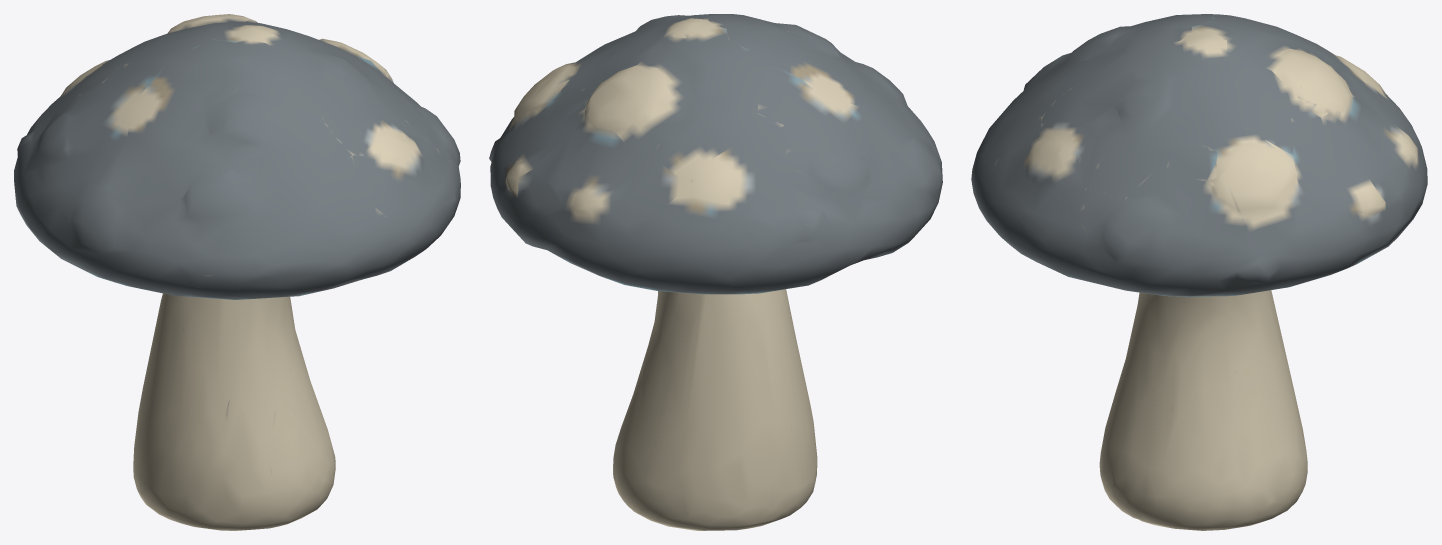
Rendered from tree-shroom.glb.
The picture shows the model from 3 angles, left to right: view 1: azimuth 30°, elevation 25°; view 2: azimuth 150°, elevation 25°; view 3: azimuth 270°, elevation 25°; orthographic projection.
Visible parts, largest first — view 1: tripo_node_6e2ce97d-7f21-44b1-b405-b1fa67bae46a; view 2: tripo_node_6e2ce97d-7f21-44b1-b405-b1fa67bae46a; view 3: tripo_node_6e2ce97d-7f21-44b1-b405-b1fa67bae46a.
Part boxes in pixels (x1=…): tripo_node_6e2ce97d-7f21-44b1-b405-b1fa67bae46a: x1=14, y1=14, x2=460, y2=530; tripo_node_6e2ce97d-7f21-44b1-b405-b1fa67bae46a: x1=489, y1=14, x2=942, y2=530; tripo_node_6e2ce97d-7f21-44b1-b405-b1fa67bae46a: x1=971, y1=14, x2=1427, y2=530.
Size of the model in its own units: 0.8859 by 1 by 0.8857.
1 material, 1 textured.
